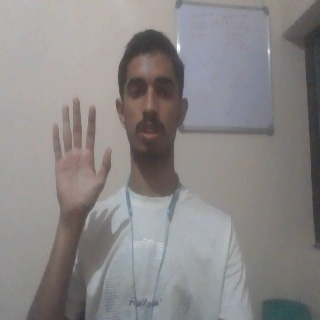Face: (113, 26, 191, 165)
Hello: (49, 97, 113, 220)
